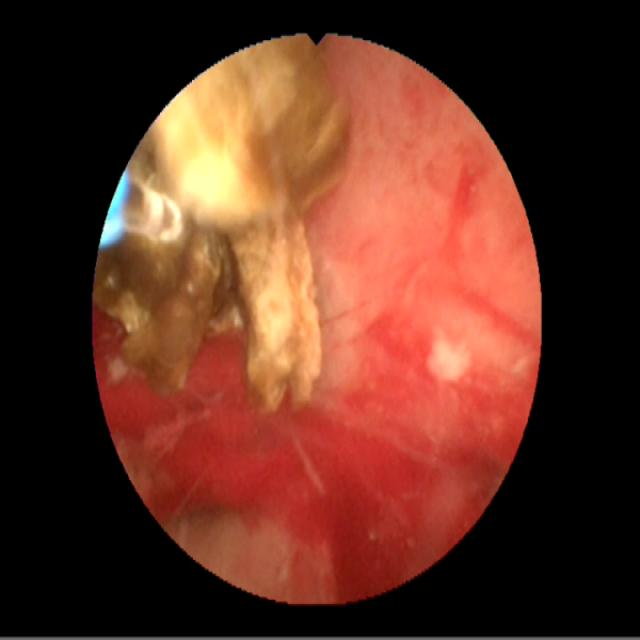fiber: (102, 179, 128, 246)
stone: (101, 41, 347, 406)
tissue: (126, 56, 528, 594)
